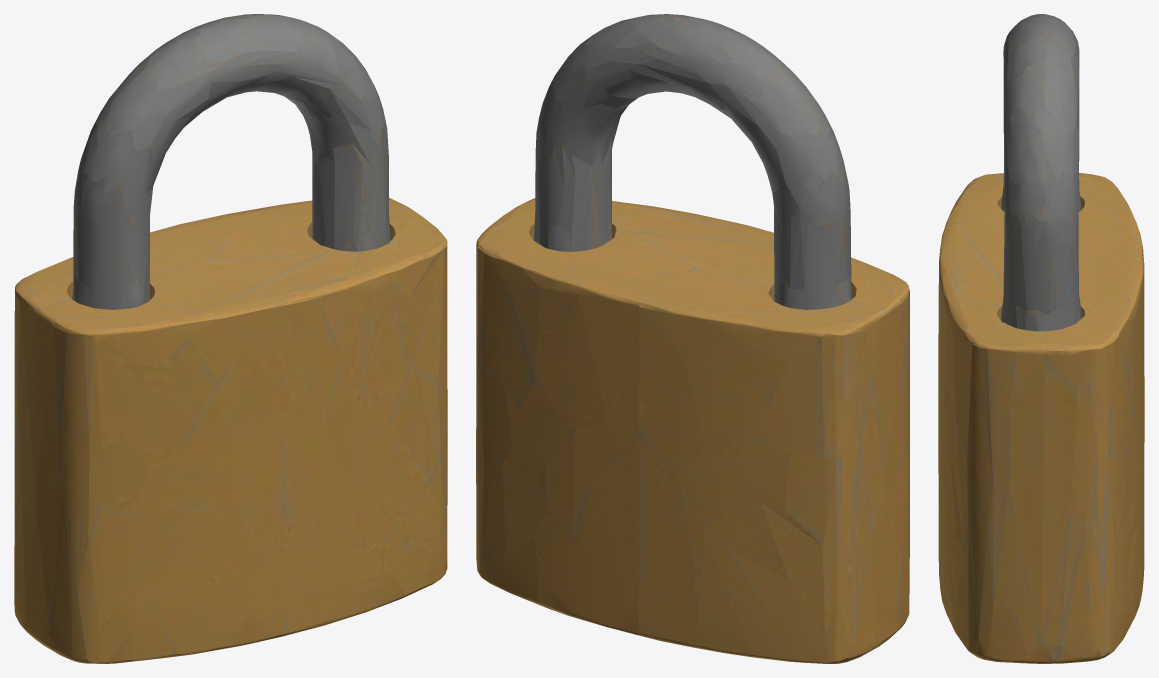
File: padlock.glb
3 views of the same model, side by side, from view 1: azimuth 30°, elevation 25°; view 2: azimuth 150°, elevation 25°; view 3: azimuth 270°, elevation 25° (orthographic). The views are drawn at different scales.
Visible parts, largest first — view 1: output_unwrapped; view 2: output_unwrapped; view 3: output_unwrapped.
Boxes of the visible parts, x1,y1,x2,y2 form: output_unwrapped: (14,14,447,663); output_unwrapped: (476,14,909,663); output_unwrapped: (938,14,1144,663).
Bounding box in the file's own units: 1.33 × 1.9 × 0.6444.
1 material, 1 textured.
